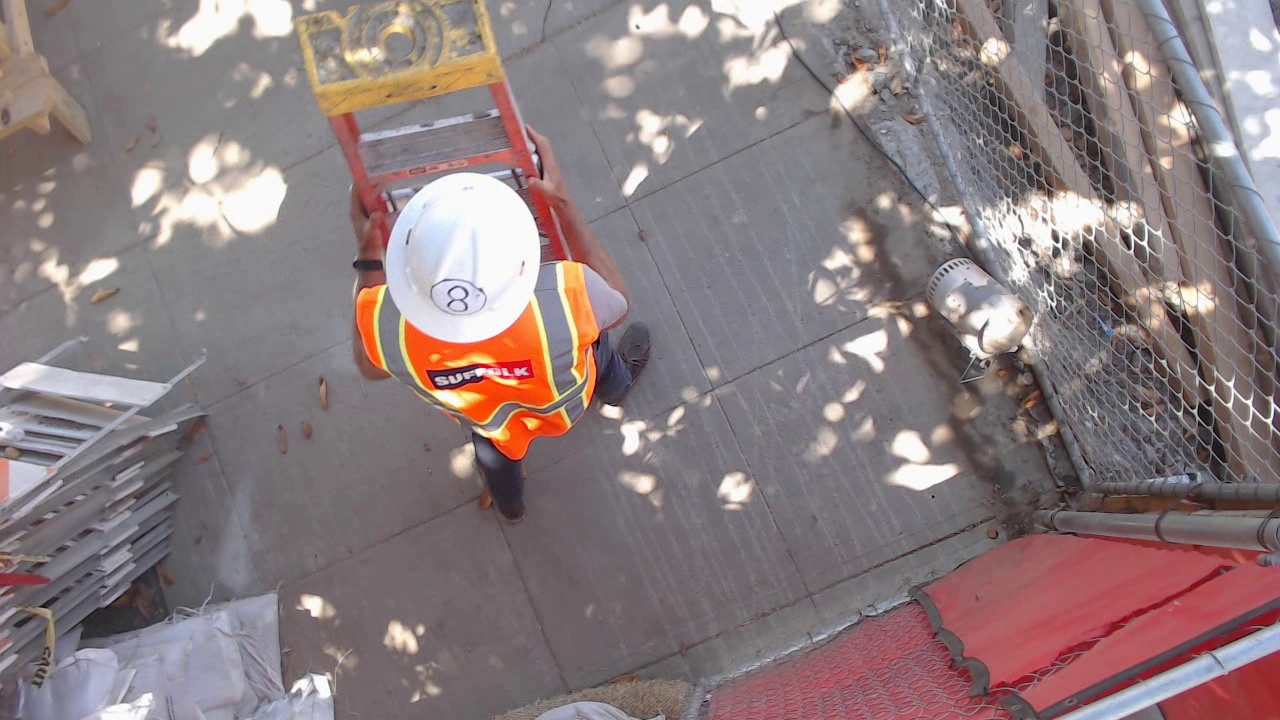person: (745, 539, 1049, 720)
safetyvest: (796, 577, 1030, 720)
